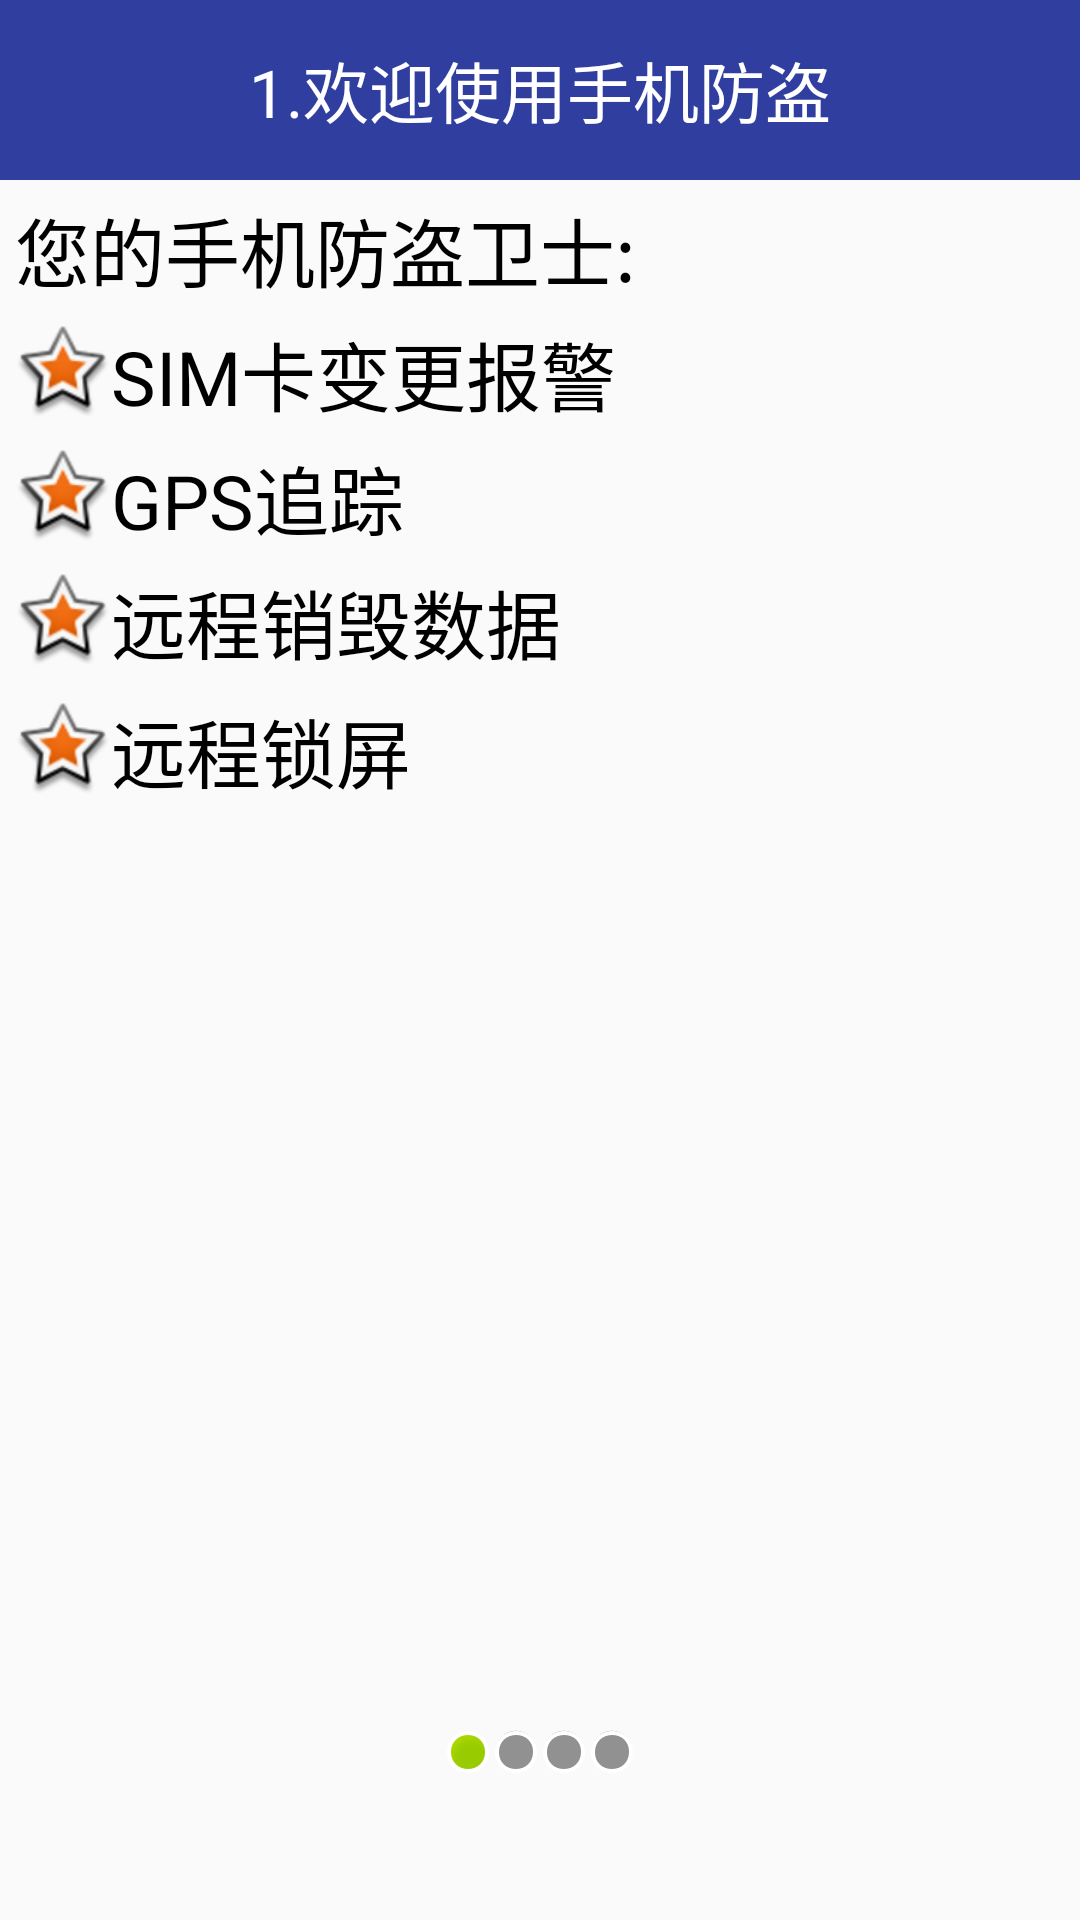

Named icons in this screenshot (1080px x 1920px) and their bounding boxes, (x1, y1, x2, y2):
presence invisible: (499, 1731, 533, 1769), (547, 1731, 581, 1769), (595, 1731, 629, 1769)
presence online: (451, 1735, 485, 1769)
